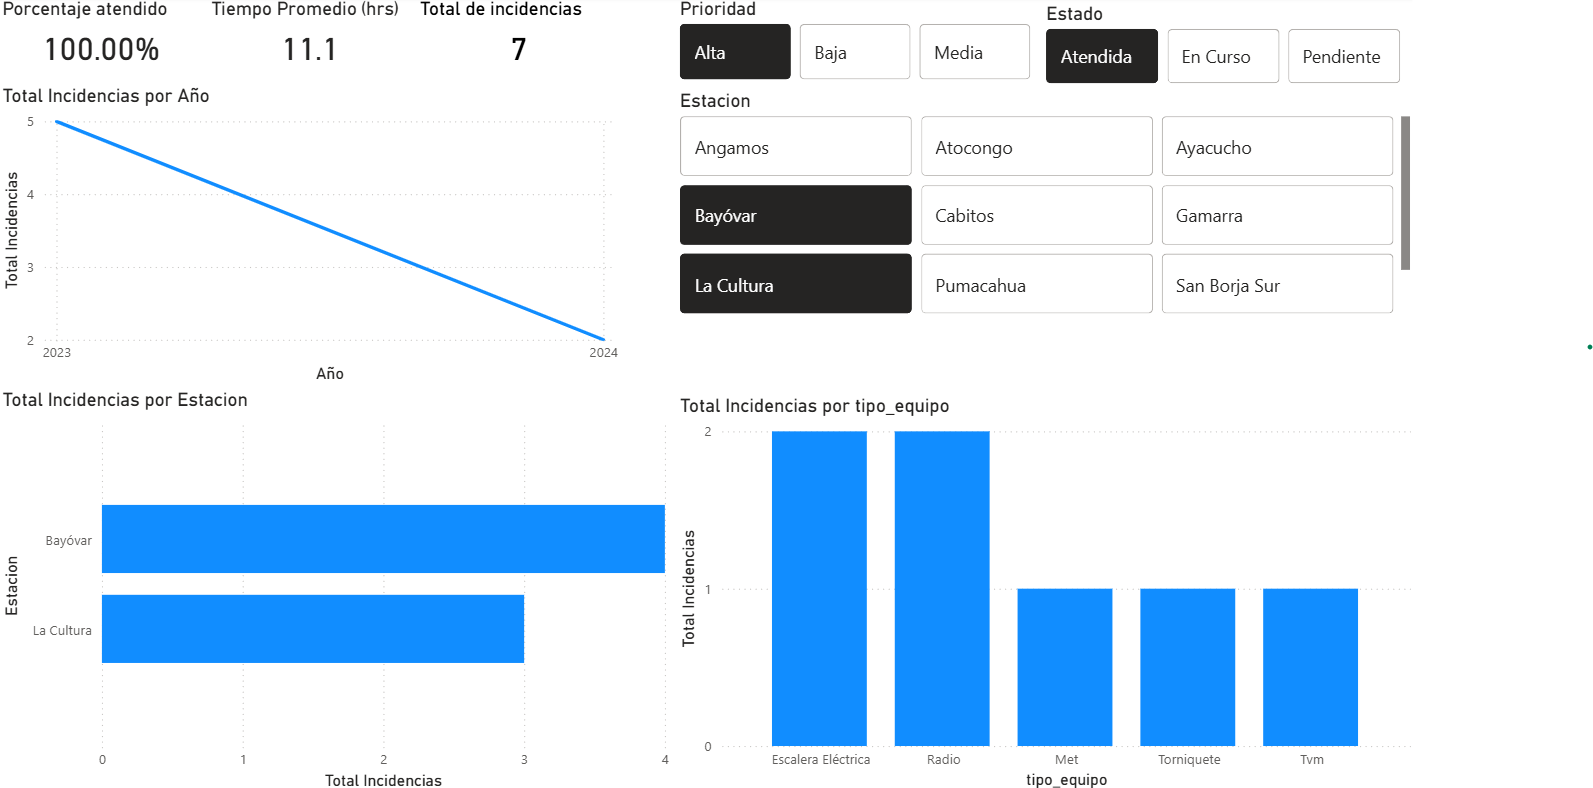

The page's visual inventory and layout, read from the dashboard file:
{"tool":"powerbi","page":{"name":"Página 1","canvas":[1280,720],"ordinal":0},"visuals":[{"type":"card","title":"Total de incidencias","fields":{"Values":["Incidencias.Total Incidencias"]},"box":[376.6,1.2,188.3,70.9],"z":0},{"type":"card","title":"Tiempo Promedio (hrs)","fields":{"Values":["Incidencias.Tiempo Promedio Atención"]},"box":[188.3,1.2,188.3,70.9],"z":1000},{"type":"barChart","fields":{"Category":["Incidencias.estacion"],"Y":["Incidencias.Total Incidencias"]},"box":[0,353.4,611.4,366.8],"z":2000},{"type":"columnChart","fields":{"Category":["Incidencias.tipo_equipo"],"Y":["Incidencias.Total Incidencias"]},"box":[611.4,359.5,668.9,360.7],"z":3000},{"type":"lineChart","fields":{"Category":["Incidencias.mes_reporte.Variación.Jerarquía de fechas.Año","Incidencias.mes_reporte.Variación.Jerarquía de fechas.Trimestre","Incidencias.mes_reporte.Variación.Jerarquía de fechas.Mes","Incidencias.mes_reporte.Variación.Jerarquía de fechas.Día"],"Y":["Incidencias.Total Incidencias"]},"box":[0,79.5,564.9,273.9],"z":4000},{"type":"advancedSlicerVisual","title":"Prioridad","fields":{"Values":["Incidencias.prioridad"]},"box":[611.4,1.2,328.9,79.5],"z":5000},{"type":"advancedSlicerVisual","title":"Estacion","fields":{"Values":["Incidencias.estacion"]},"box":[611.1,84.4,668.9,209.1],"z":6000},{"type":"card","title":"Porcentaje atendido","fields":{"Values":["Incidencias.% Atendidas"]},"box":[0,1.2,188.3,70.9],"z":7000},{"type":"advancedSlicerVisual","title":"Estado","fields":{"Values":["Incidencias.estado"]},"box":[940.8,5.7,329.3,78.4],"z":8000}]}

Visuals, with their boxes on the page's 1280x720 design canvas (x1, y1, x2, y2). These are canvas units, not pixel positions in the 1593x788 screenshot, which may show the page scaled, cropped or inside an application window:
"Total de incidencias" card: 377, 1, 565, 72
"Tiempo Promedio (hrs)" card: 188, 1, 377, 72
barChart - Incidencias.estacion x Incidencias.Total Incidencias: 0, 353, 611, 720
columnChart - Incidencias.tipo_equipo x Incidencias.Total Incidencias: 611, 360, 1280, 720
lineChart - Incidencias.mes_reporte.Variación.Jerarquía de fechas.Año x Incidencias.mes_reporte.Variación.Jerarquía de fechas.Trimestre: 0, 80, 565, 353
"Prioridad" advancedSlicerVisual: 611, 1, 940, 81
"Estacion" advancedSlicerVisual: 611, 84, 1280, 294
"Porcentaje atendido" card: 0, 1, 188, 72
"Estado" advancedSlicerVisual: 941, 6, 1270, 84
